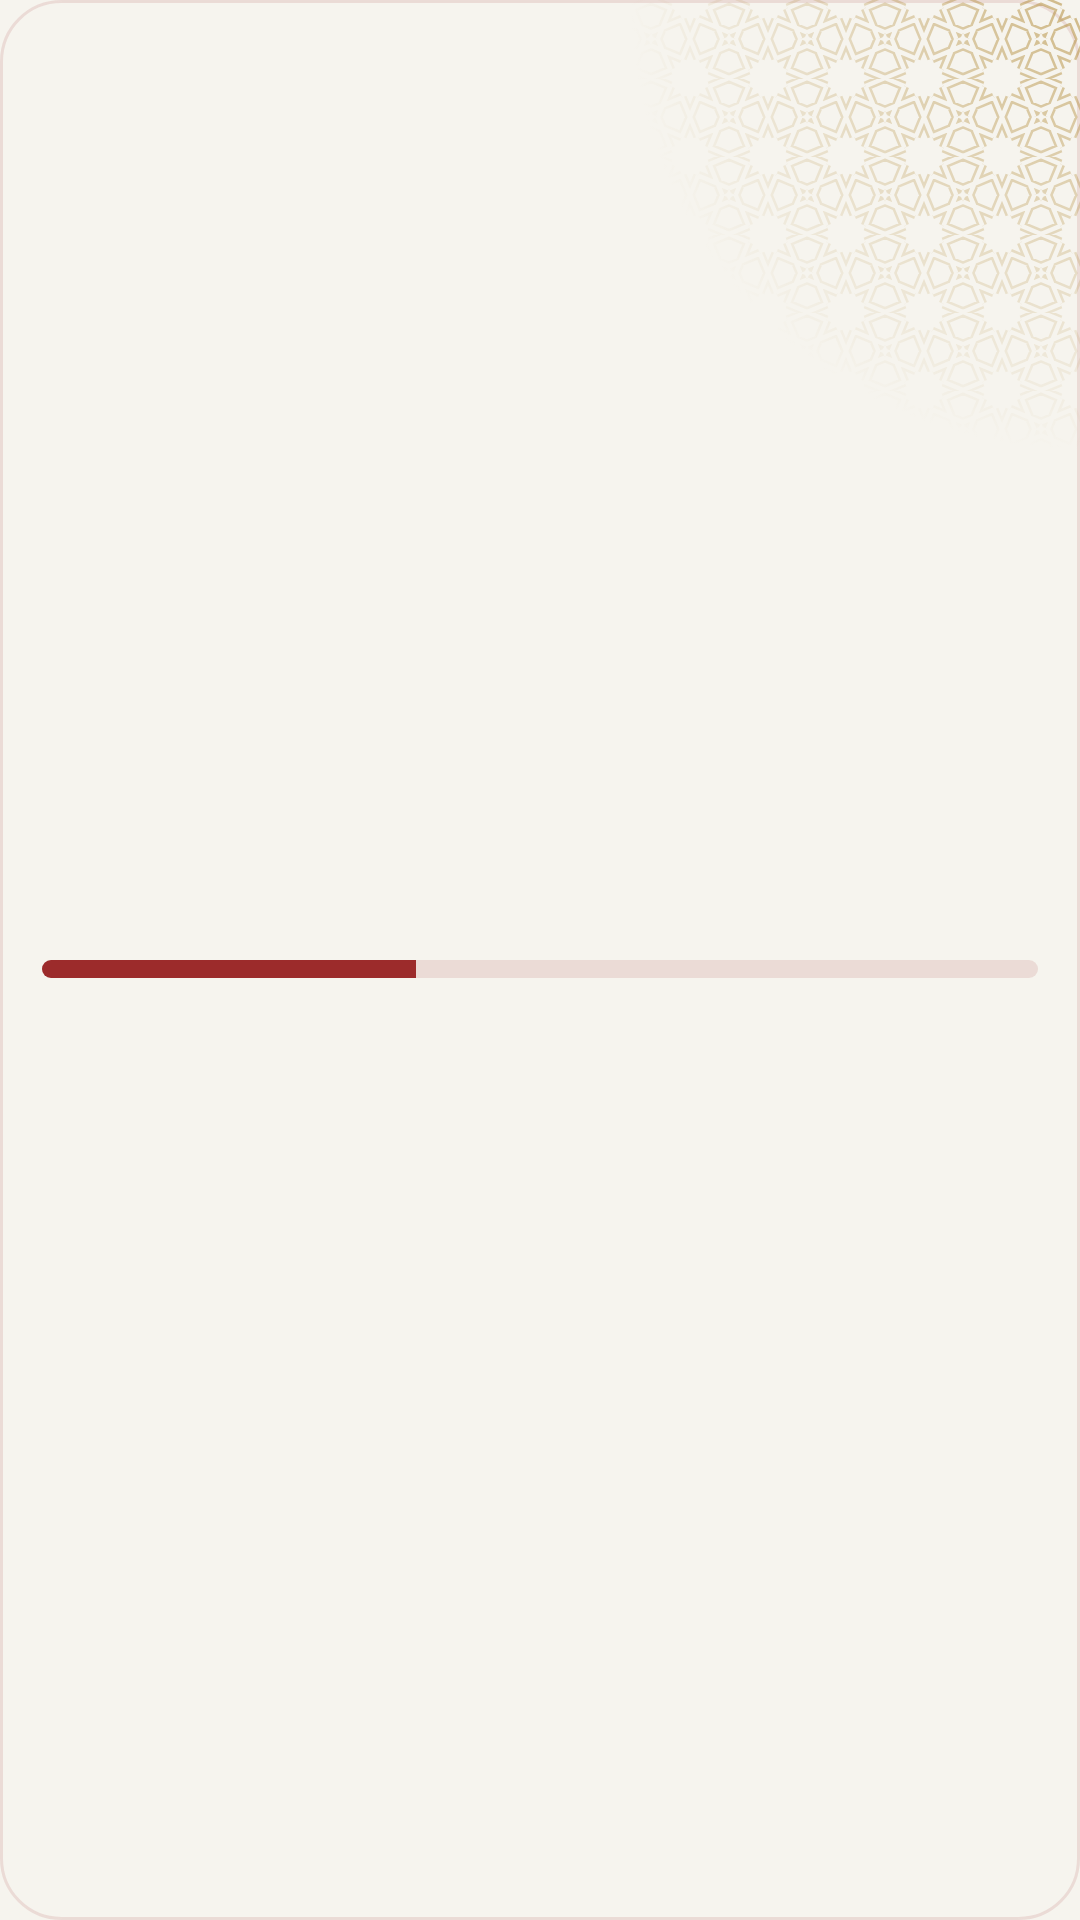

Screen size 1080x1920. Icon name, then its box in pixels as (x1, y1, x2, y2):
widget orn band: (737, 0, 1080, 343)
